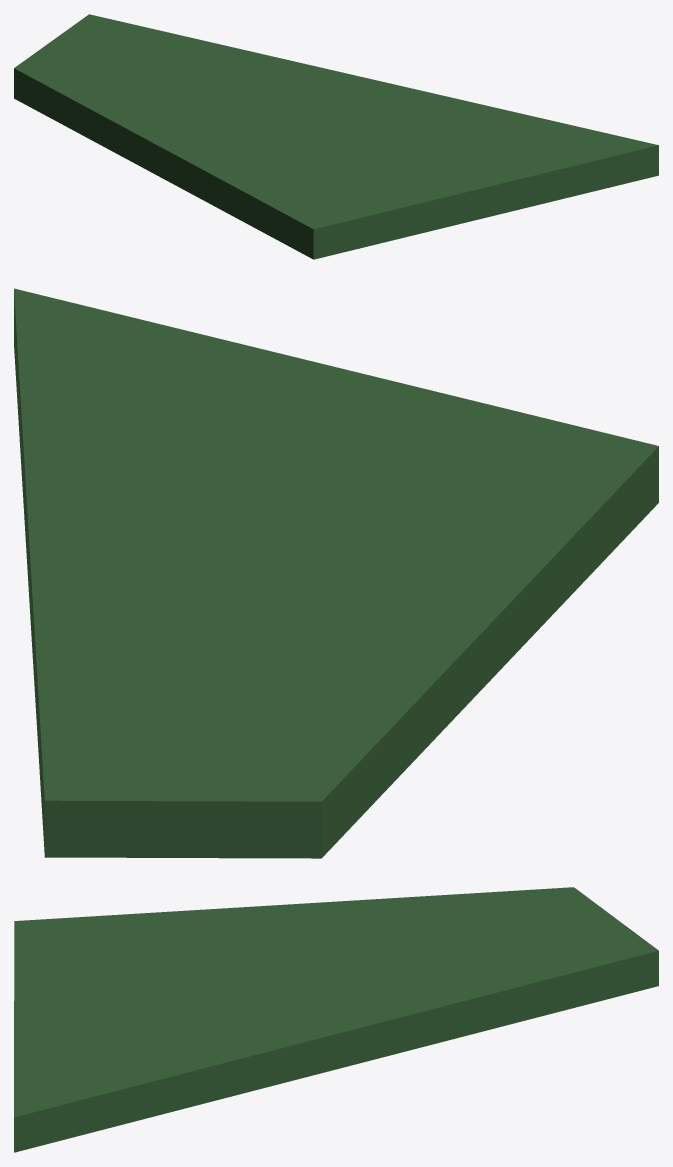
File: x_proval_00_56_1_rmstrd_mirror.fbx
The picture shows the model from 3 angles, top to bottom: view 1: azimuth 30°, elevation 25°; view 2: azimuth 150°, elevation 25°; view 3: azimuth 270°, elevation 25°; orthographic projection. The views are drawn at different scales.
Visible parts, largest first — view 1: x_proval_00_56_1_rmstrd_mirror1; view 2: x_proval_00_56_1_rmstrd_mirror1; view 3: x_proval_00_56_1_rmstrd_mirror1.
Part boxes in pixels (box(x1,y1,x2,y2)): x_proval_00_56_1_rmstrd_mirror1: box(14, 14, 658, 259); x_proval_00_56_1_rmstrd_mirror1: box(14, 288, 658, 858); x_proval_00_56_1_rmstrd_mirror1: box(14, 887, 658, 1152).
Size of the model in its own units: 2.79 by 0.2 by 3.3.
